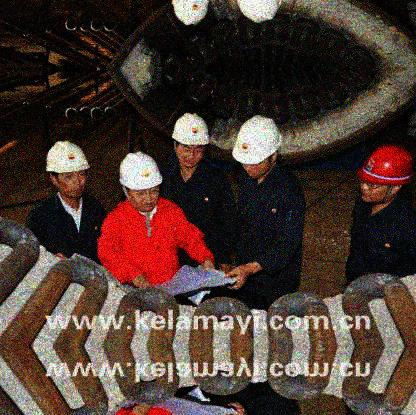helmet: (355, 142, 416, 203), (232, 115, 282, 180), (44, 140, 91, 199), (118, 151, 163, 212), (171, 110, 212, 167)
